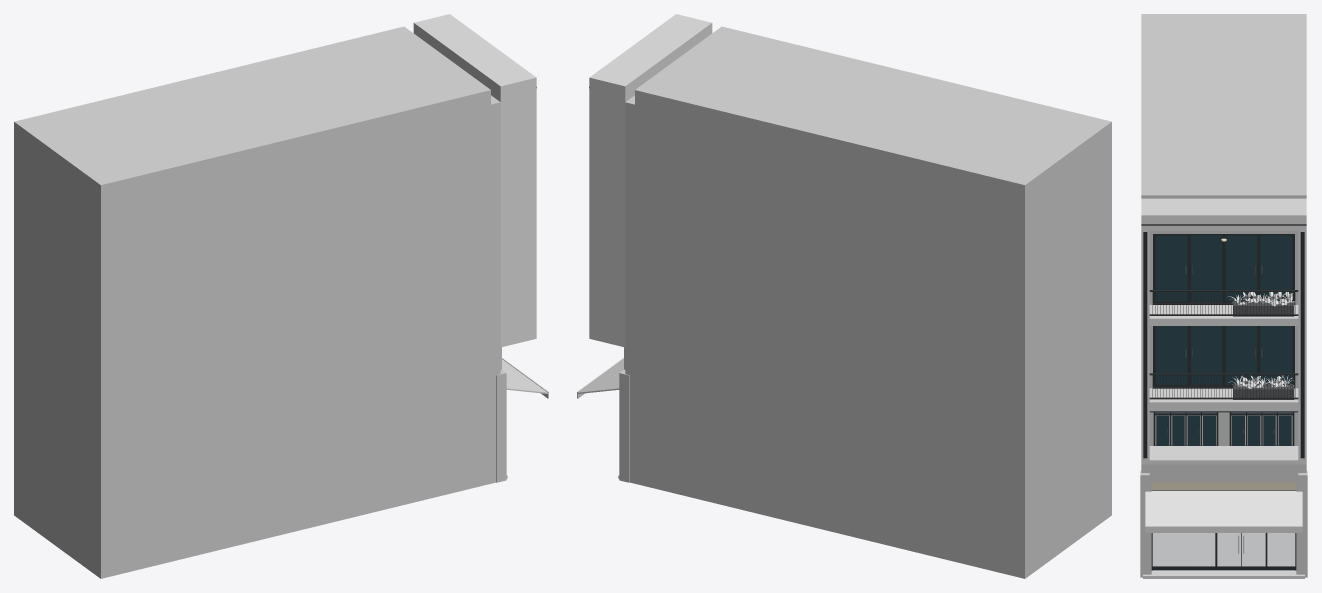
The model's file is OW_Mau_NhaPho_6_0_0_B.fbx.
3 renders of one model, left to right at view 1: azimuth 30°, elevation 25°; view 2: azimuth 150°, elevation 25°; view 3: azimuth 270°, elevation 25°, orthographic. The views are drawn at different scales.
Parts seen in each view (by area): view 1: OW_NhaPho_9025; view 2: OW_NhaPho_9025; view 3: OW_NhaPho_9025, OW_MatTienKinh.
Part boxes in pixels (left/top/right/bottom): OW_NhaPho_9025: left=14, top=14, right=548, bottom=578; OW_NhaPho_9025: left=577, top=14, right=1111, bottom=578; OW_NhaPho_9025: left=1140, top=14, right=1307, bottom=578; OW_MatTienKinh: left=1151, top=483, right=1296, bottom=570.
Bounding box in the file's own units: 17.77 × 14.9 × 6.
